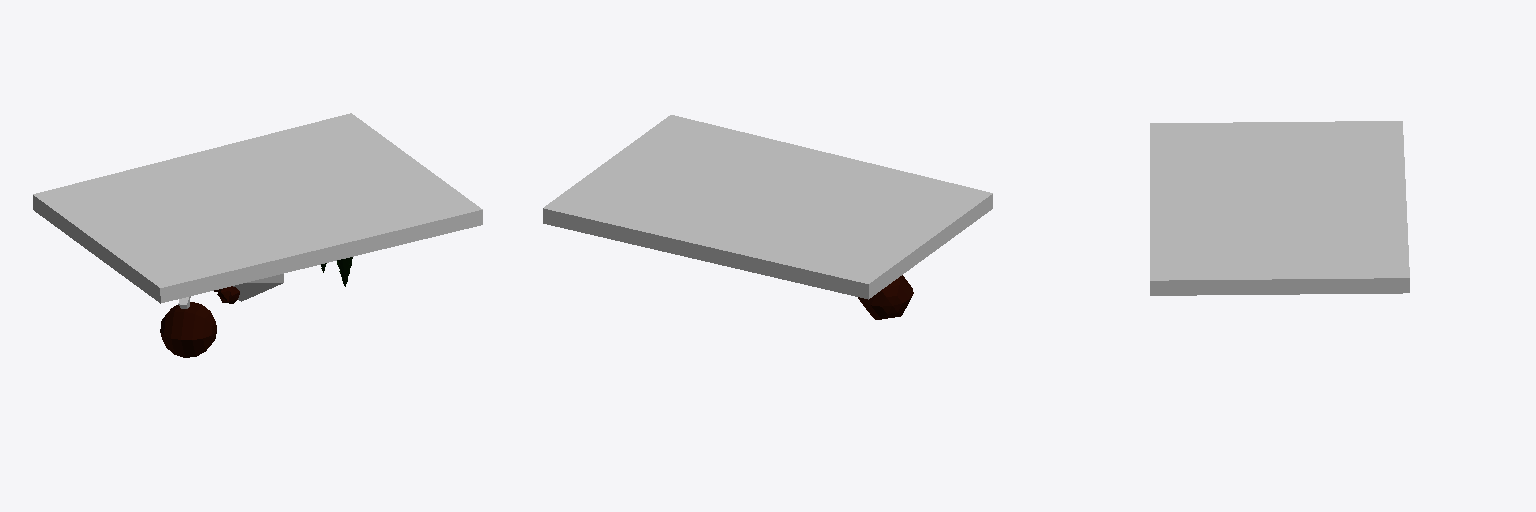
The picture shows the model from 3 angles: view 1: azimuth 30°, elevation 25°; view 2: azimuth 150°, elevation 25°; view 3: azimuth 270°, elevation 25°; orthographic projection.
Parts seen in each view (by area): view 1: ground, leaf, house; view 2: ground, leaf; view 3: ground.
Part boxes in pixels (bbox=[...]): ground: bbox=[33, 113, 482, 303]; leaf: bbox=[160, 302, 216, 357]; house: bbox=[233, 274, 283, 301]; ground: bbox=[543, 115, 992, 299]; leaf: bbox=[858, 275, 913, 319]; ground: bbox=[1150, 121, 1409, 295].
Bounding box in the file's own units: 1953 × 647 × 1357.